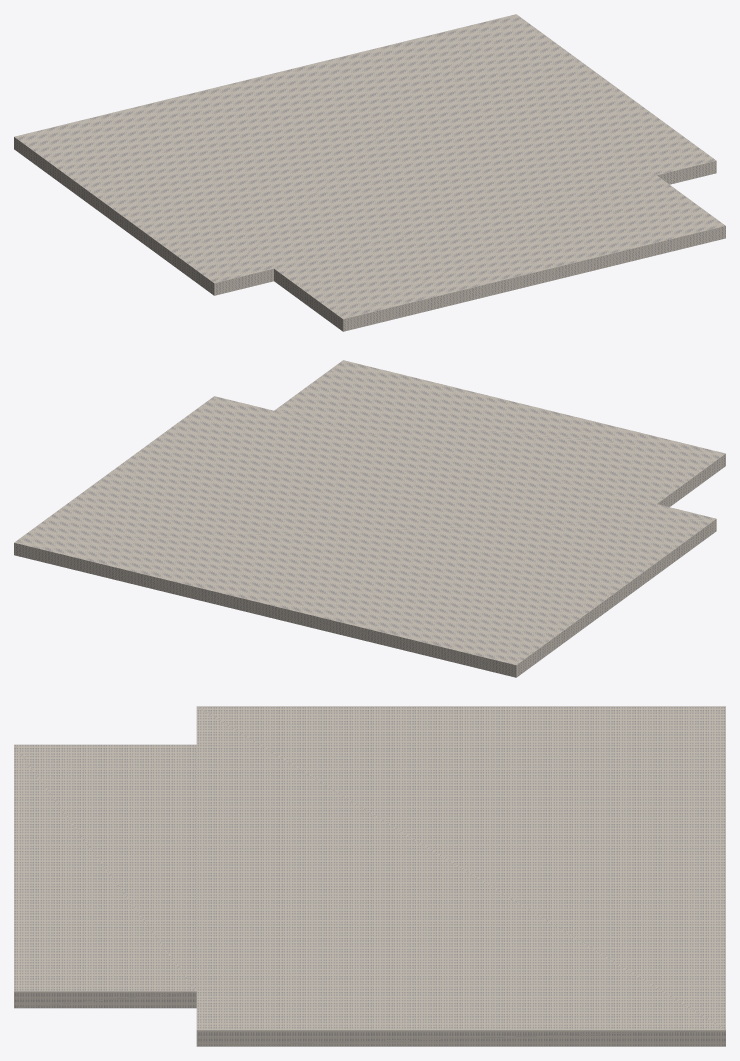
File: Floor Prefab.fbx
The picture shows the model from 3 angles, top to bottom: view 1: azimuth 30°, elevation 25°; view 2: azimuth 150°, elevation 25°; view 3: azimuth 270°, elevation 25°; orthographic projection. The views are drawn at different scales.
Parts seen in each view (by area): view 1: Floor__1_, Floor__3_; view 2: Floor__1_, Floor__3_; view 3: Floor__1_, Floor__3_.
Boxes of the visible parts, x1,y1,x2,y2 form: Floor__1_: [14, 14, 716, 295]; Floor__3_: [274, 175, 725, 331]; Floor__1_: [14, 396, 716, 677]; Floor__3_: [274, 360, 725, 507]; Floor__1_: [196, 706, 725, 1046]; Floor__3_: [14, 744, 196, 1008].
Bounding box in the file's own units: 1654 × 39.37 × 1535.
